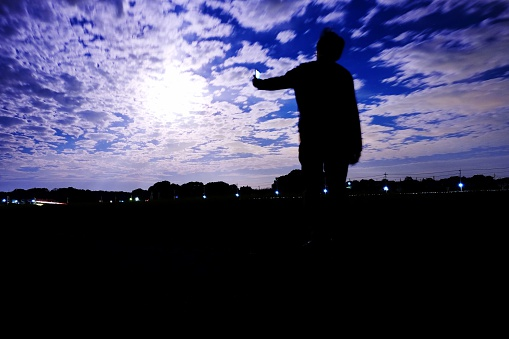em pe: (253, 28, 359, 186)
